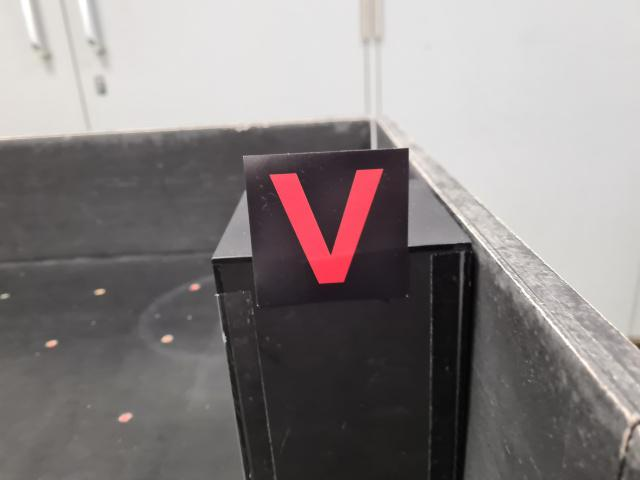v: (240, 147, 408, 309)
